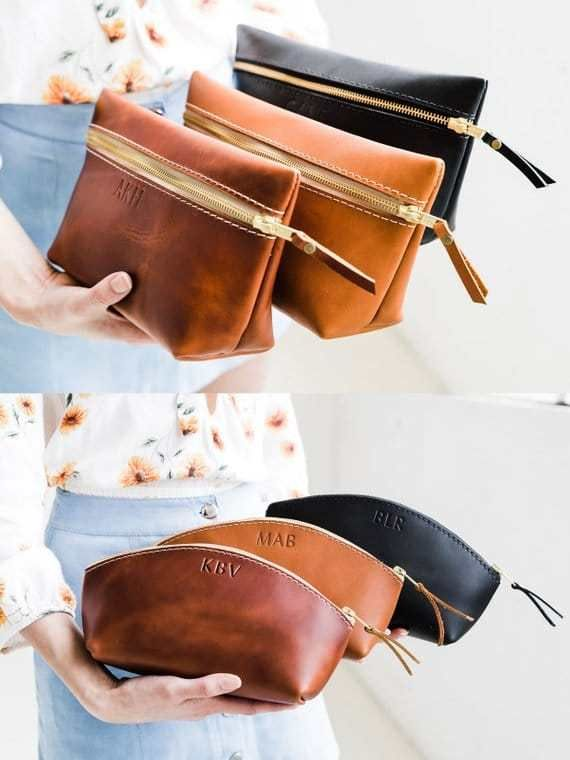cuero: (46, 23, 503, 707)
